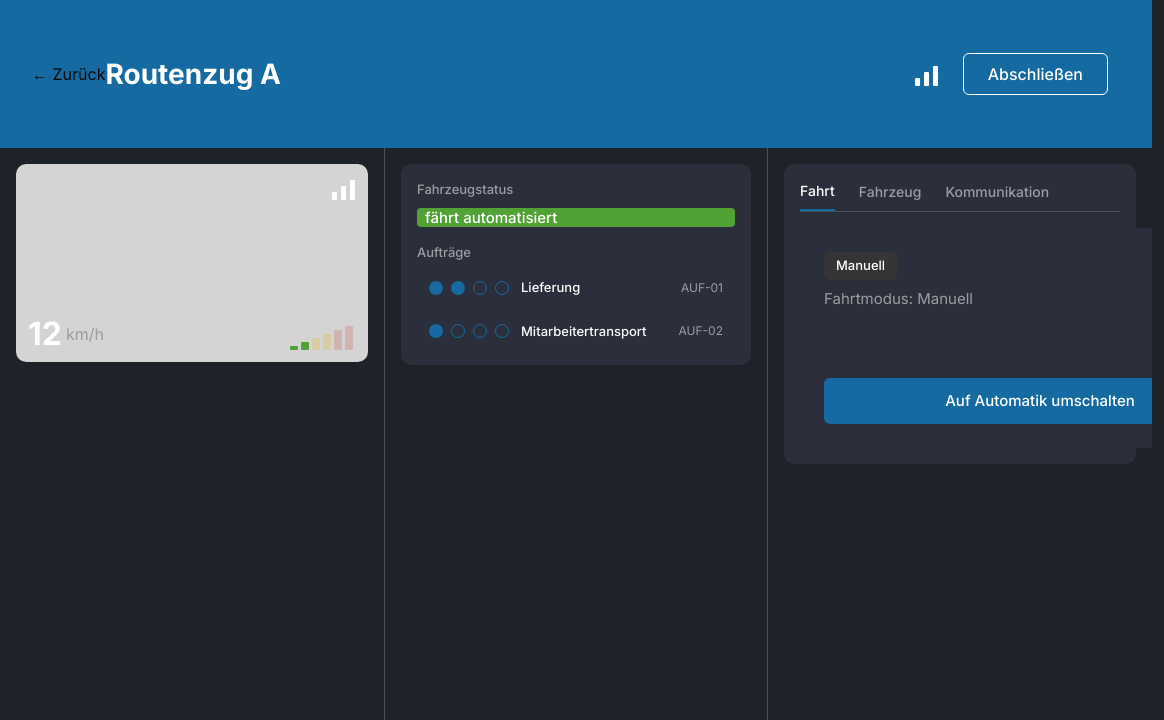
Scenario: RZ-02 — RoutenzugDetailPage — Abschließen-Bestätigung › 'Abbrechen' schließt das Banner (kein router.push)
Click the button "Abschließen" at (1035, 74), box 963,53 -> 1108,95
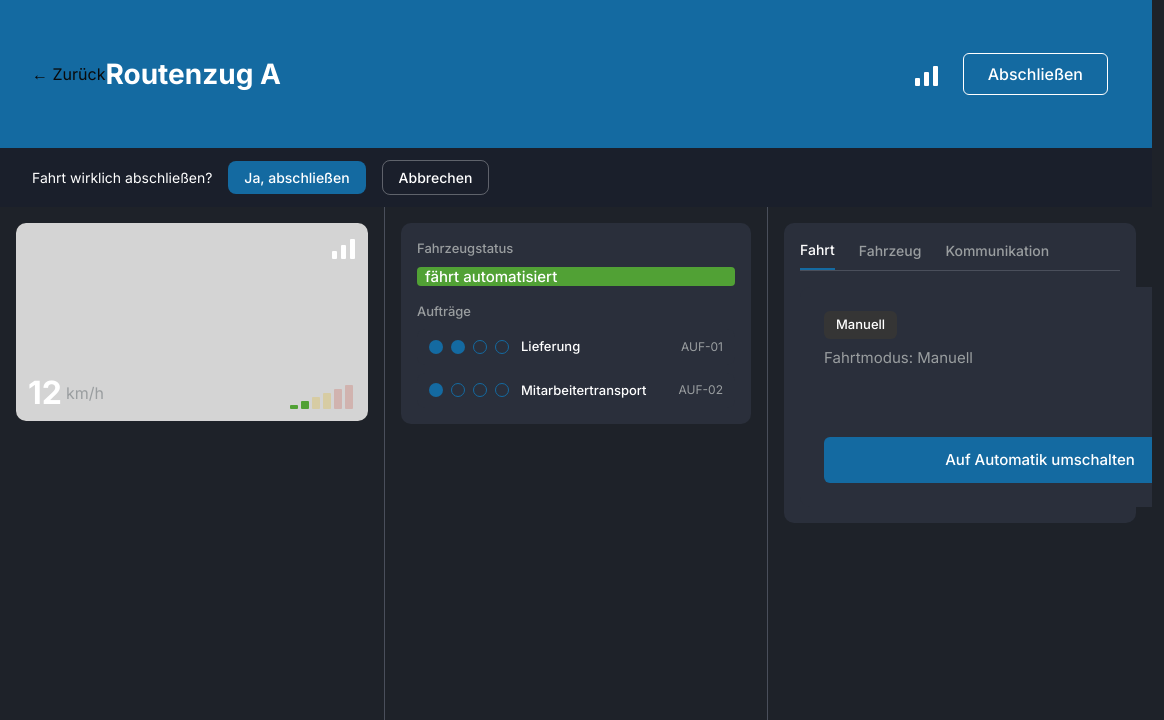
Click the button "Abbrechen" at (436, 178), box 382,160 -> 489,195
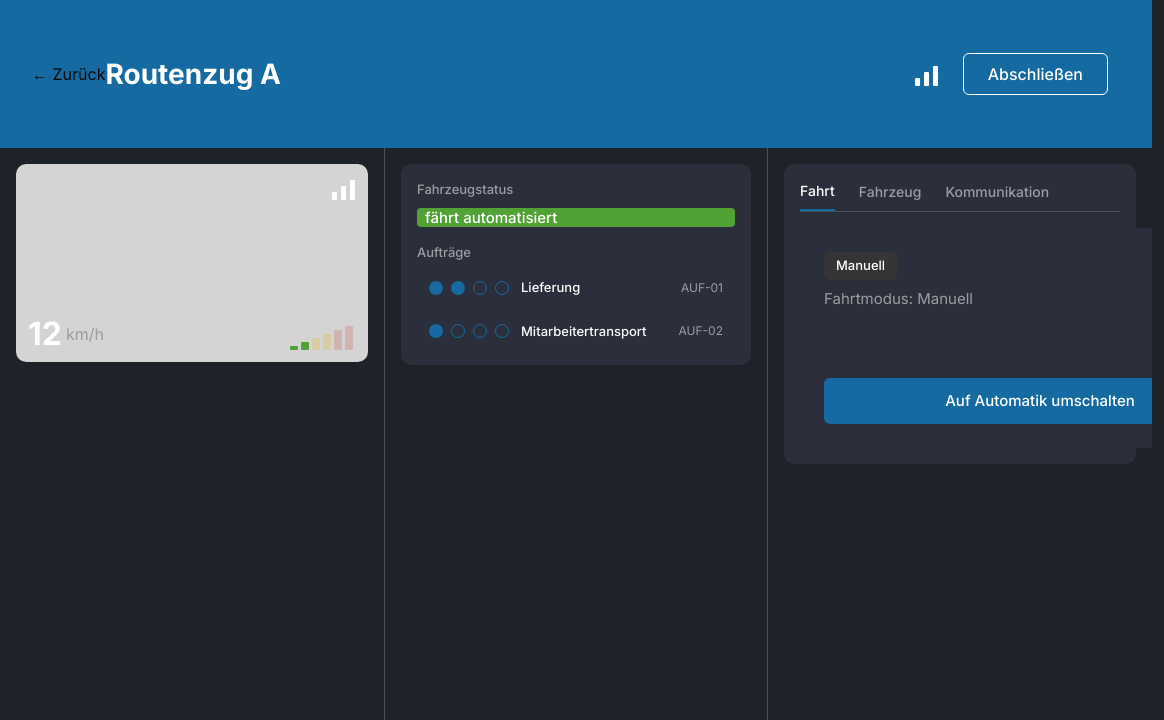
Check: the text "Fahrt wirklich abschließen?" is gone
